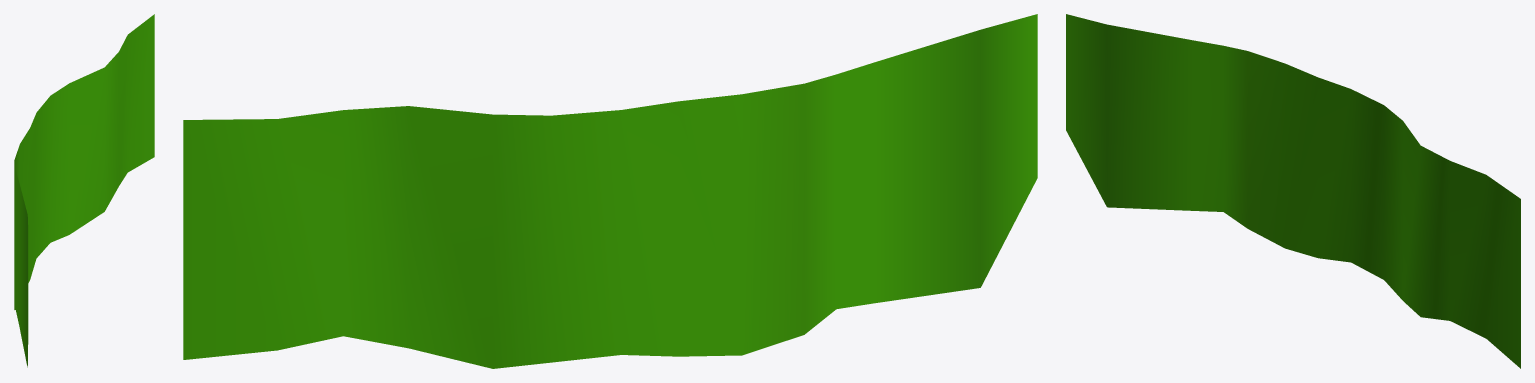
File: M4_InvisPolly3.glb
The picture shows the model from 3 angles, left to right: view 1: azimuth 30°, elevation 25°; view 2: azimuth 150°, elevation 25°; view 3: azimuth 270°, elevation 25°; orthographic projection. The views are drawn at different scales.
Parts seen in each view (by area): view 1: M4_INVISPOLLY3; view 2: M4_INVISPOLLY3; view 3: M4_INVISPOLLY3.
Part boxes in pixels (bbox=[...]): M4_INVISPOLLY3: bbox=[14, 14, 154, 367]; M4_INVISPOLLY3: bbox=[183, 14, 1037, 368]; M4_INVISPOLLY3: bbox=[1066, 14, 1520, 368].
Size of the model in its own units: 26.41 by 12.44 by 27.56.
